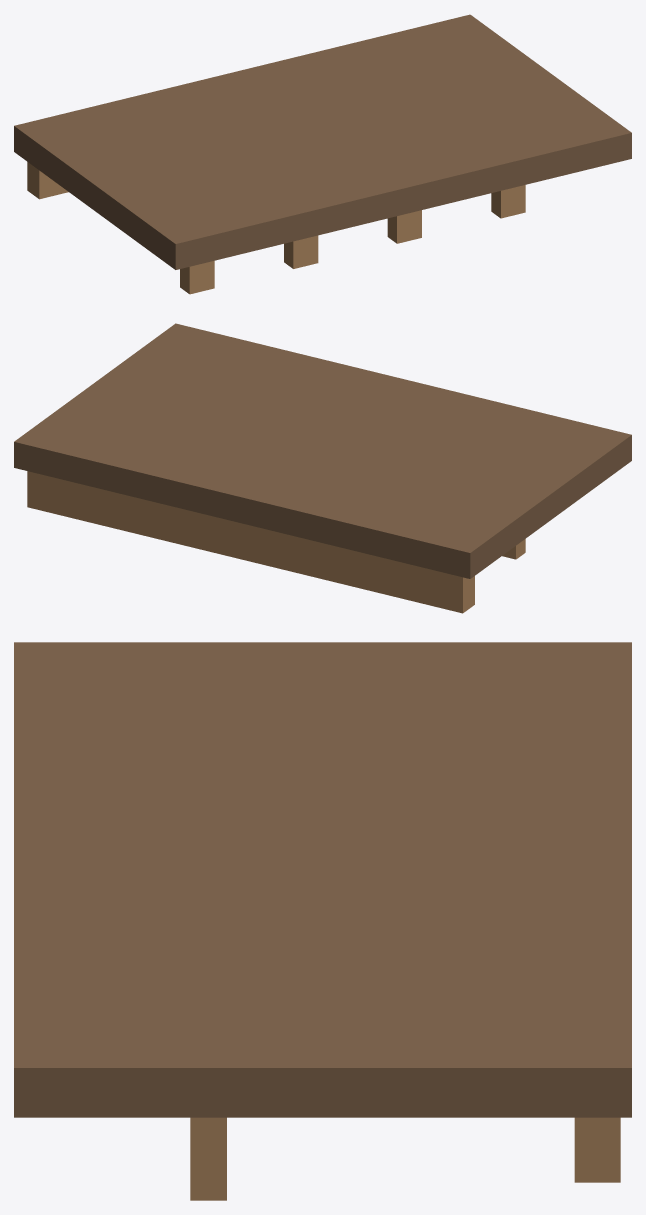
The model's file is display_weapon_wall_rack.glb.
The picture shows the model from 3 angles, top to bottom: view 1: azimuth 30°, elevation 25°; view 2: azimuth 150°, elevation 25°; view 3: azimuth 270°, elevation 25°; orthographic projection. The views are drawn at different scales.
Visible parts, largest first — view 1: backboard, peg_1, peg_0, peg_3, peg_2, lower_lip; view 2: backboard, lower_lip; view 3: backboard, peg_3, lower_lip.
Boxes of the visible parts, x1,y1,x2,y2 form: backboard: (14, 14, 631, 269); peg_1: (284, 235, 318, 268); peg_0: (180, 260, 214, 294); peg_3: (491, 185, 525, 218); peg_2: (387, 210, 421, 243); lower_lip: (27, 162, 68, 199); backboard: (14, 323, 631, 578); lower_lip: (27, 471, 474, 613); backboard: (14, 642, 631, 1117); peg_3: (190, 1117, 226, 1200); lower_lip: (574, 1117, 620, 1182).
Size of the model in its own units: 2.2 by 0.455 by 1.35.
